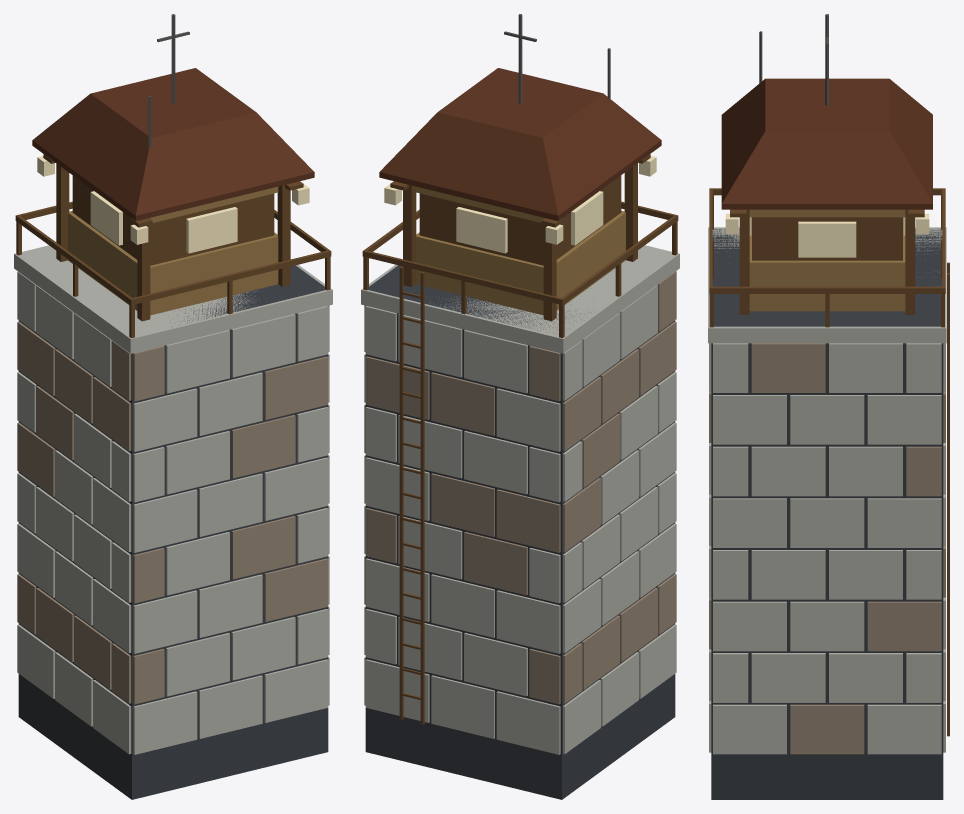
The model's file is fort_patchwork_tower.glb.
3 views of the same model, side by side, from view 1: azimuth 30°, elevation 25°; view 2: azimuth 150°, elevation 25°; view 3: azimuth 270°, elevation 25° (orthographic). The views are drawn at different scales.
Visible parts, largest first — view 1: fort_patchwork_tower; view 2: fort_patchwork_tower; view 3: fort_patchwork_tower.
Boxes of the visible parts, x1,y1,x2,y2 form: fort_patchwork_tower: (14, 14, 332, 799); fort_patchwork_tower: (361, 14, 679, 799); fort_patchwork_tower: (708, 14, 949, 799).
Size of the model in its own units: 5.76 by 19.6 by 5.84.
